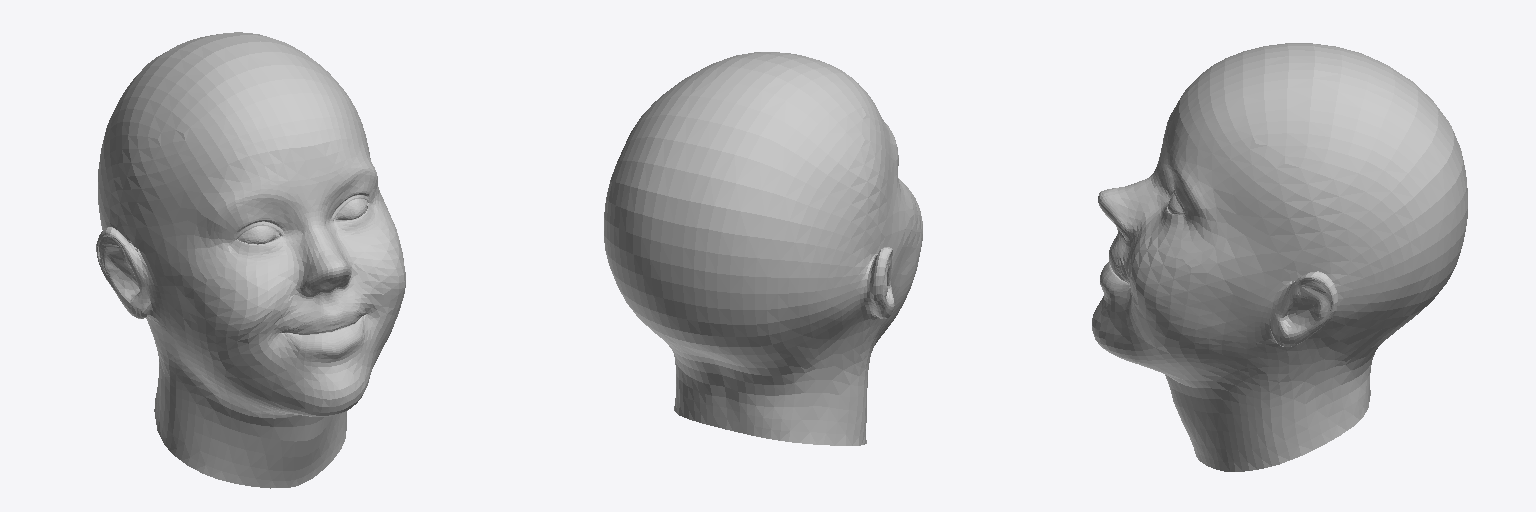
3 views of the same model, side by side, from view 1: azimuth 30°, elevation 25°; view 2: azimuth 150°, elevation 25°; view 3: azimuth 270°, elevation 25° (orthographic).
Visible parts, largest first — view 1: FaceGen; view 2: FaceGen; view 3: FaceGen.
Part boxes in pixels (bbox=[...]): FaceGen: bbox=[96, 32, 405, 488]; FaceGen: bbox=[604, 52, 922, 445]; FaceGen: bbox=[1092, 43, 1467, 471].
Bounding box in the file's own units: 203 × 280 × 240.